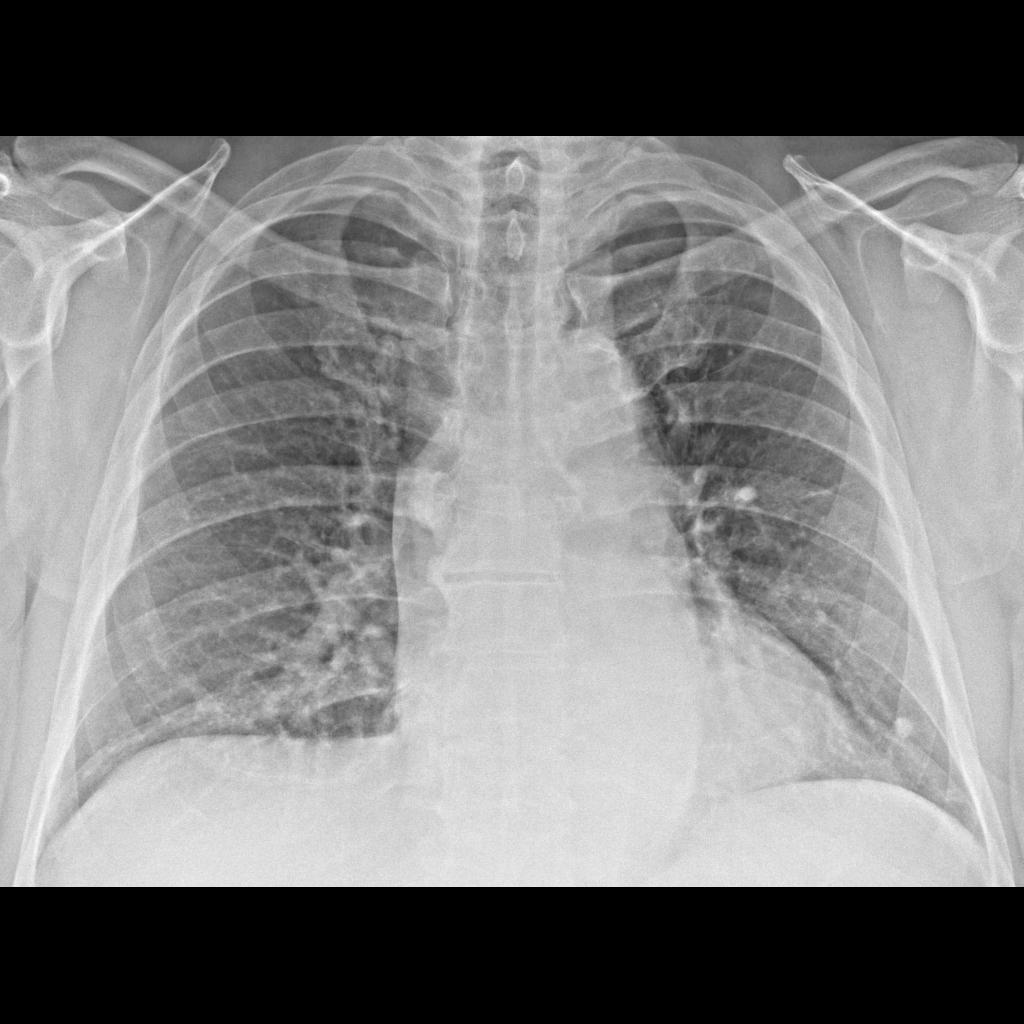Nodule: (406, 466, 470, 536), (892, 711, 923, 748)
